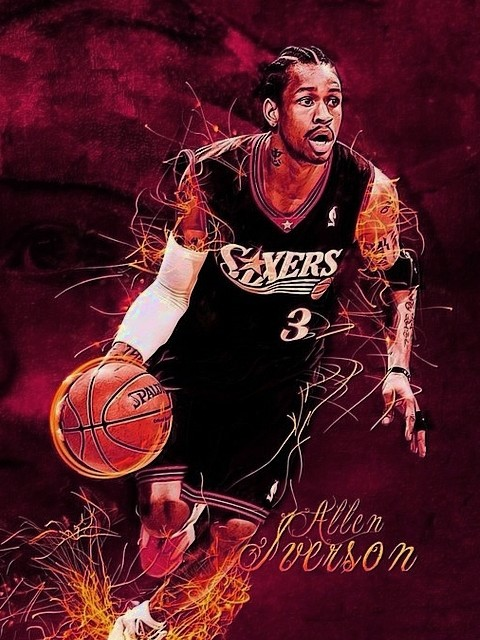ball: (49, 363, 171, 477)
